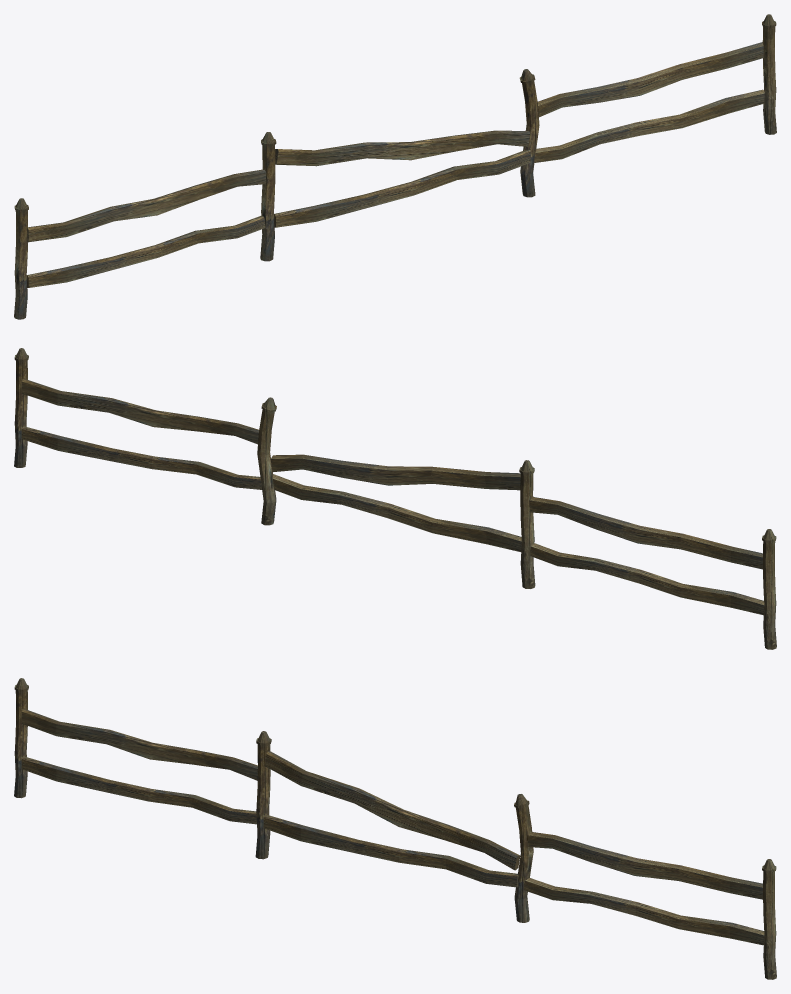
The model's file is combo4.obj.
3 renders of one model, top to bottom at view 1: azimuth 30°, elevation 25°; view 2: azimuth 150°, elevation 25°; view 3: azimuth 330°, elevation 25°, orthographic.
Parts seen in each view (by area): view 1: Mesh_Skeleton.006, Mesh.002_Skeleton.002, Mesh.001_Skeleton.007; view 2: Mesh_Skeleton.006, Mesh.002_Skeleton.002, Mesh.001_Skeleton.007; view 3: Mesh_Skeleton.006, Mesh.001_Skeleton.007, Mesh.002_Skeleton.002.
Boxes of the visible parts, left/top/right/bottom form: Mesh_Skeleton.006: left=260, top=69, right=539, bottom=261; Mesh.002_Skeleton.002: left=14, top=169, right=265, bottom=319; Mesh.001_Skeleton.007: left=534, top=14, right=776, bottom=162; Mesh_Skeleton.006: left=257, top=397, right=535, bottom=588; Mesh.002_Skeleton.002: left=529, top=497, right=776, bottom=649; Mesh.001_Skeleton.007: left=14, top=348, right=261, bottom=489; Mesh_Skeleton.006: left=255, top=731, right=533, bottom=922; Mesh.001_Skeleton.007: left=523, top=832, right=776, bottom=979; Mesh.002_Skeleton.002: left=14, top=678, right=257, bottom=824.
Size of the model in its own units: 355 by 55.83 by 10.66.
